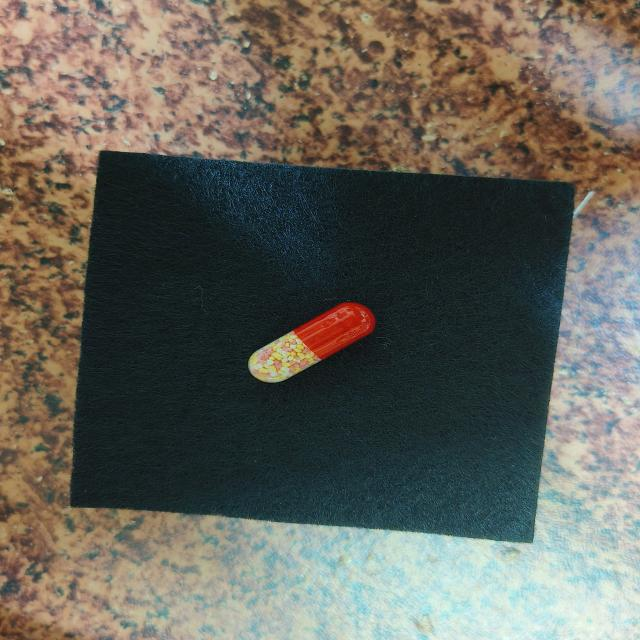Intact Capsule: (248, 302, 375, 383)
